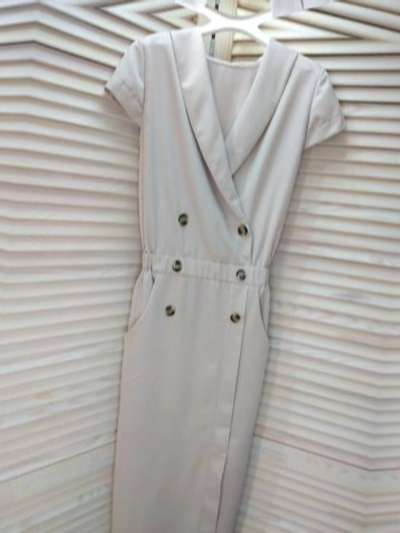Dress: (45, 22, 356, 533), (110, 0, 400, 25)
